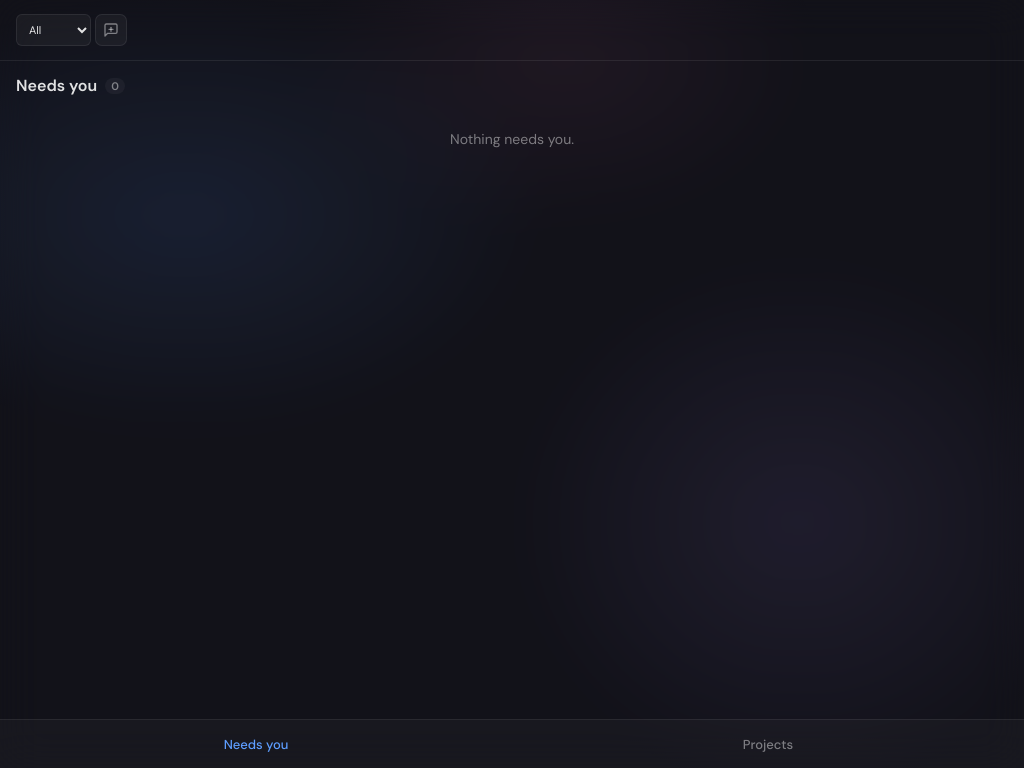
Scenario: Add server (#311) › is in the gear menu beside View Settings, and opens Add server closing the menu (phone: true)
Step 1. Click the button with class "home-tab" showing "Projects" → (768, 744), box [512,720,1023,767]
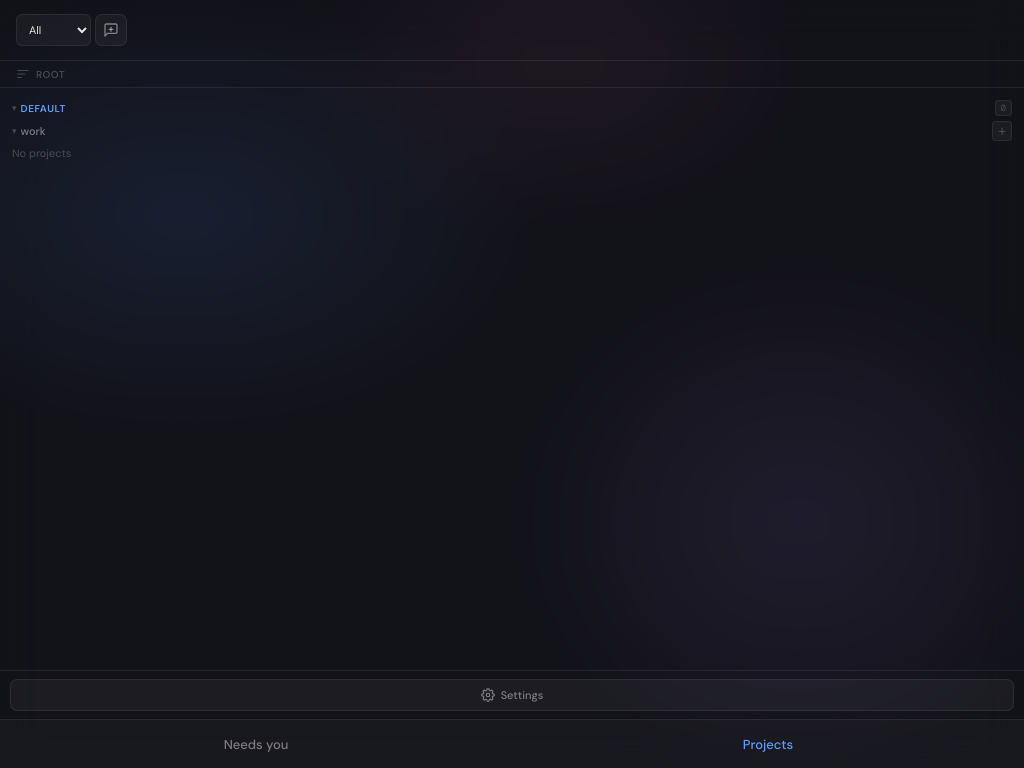
Step 2. Click the button with class "sidebar-settings-btn" → (512, 695), box [10,679,1014,711]
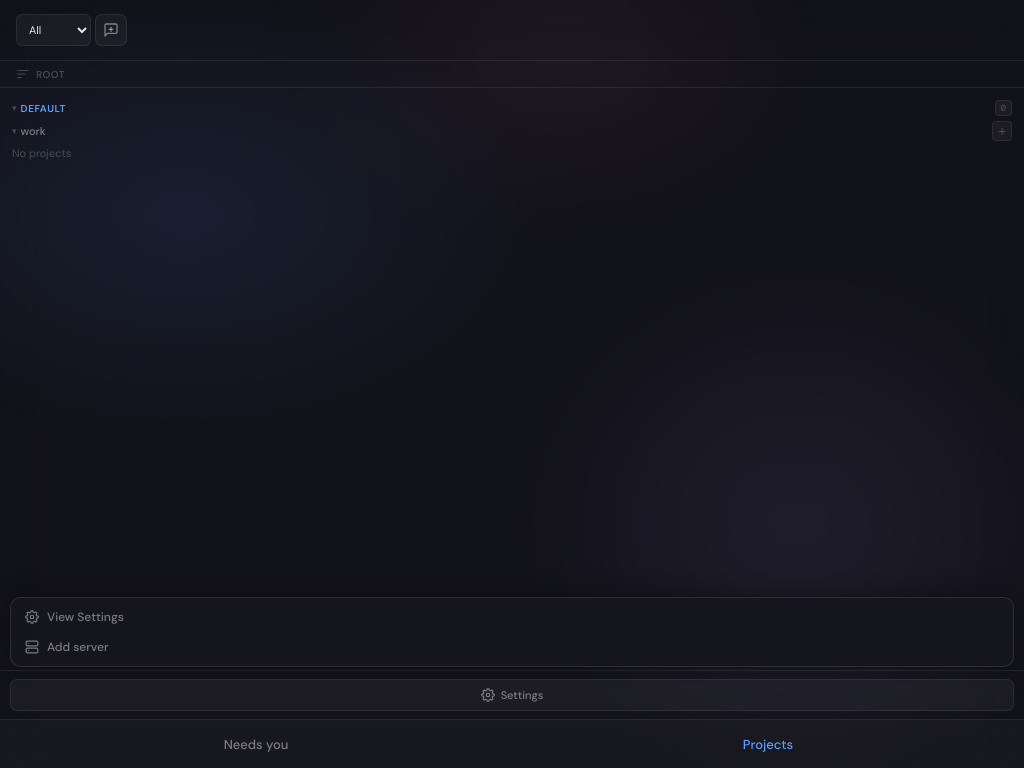
Step 3. Click the button with class "sidebar-footer-menu-item" showing "Add server" → (78, 647), box [15,632,1009,662]
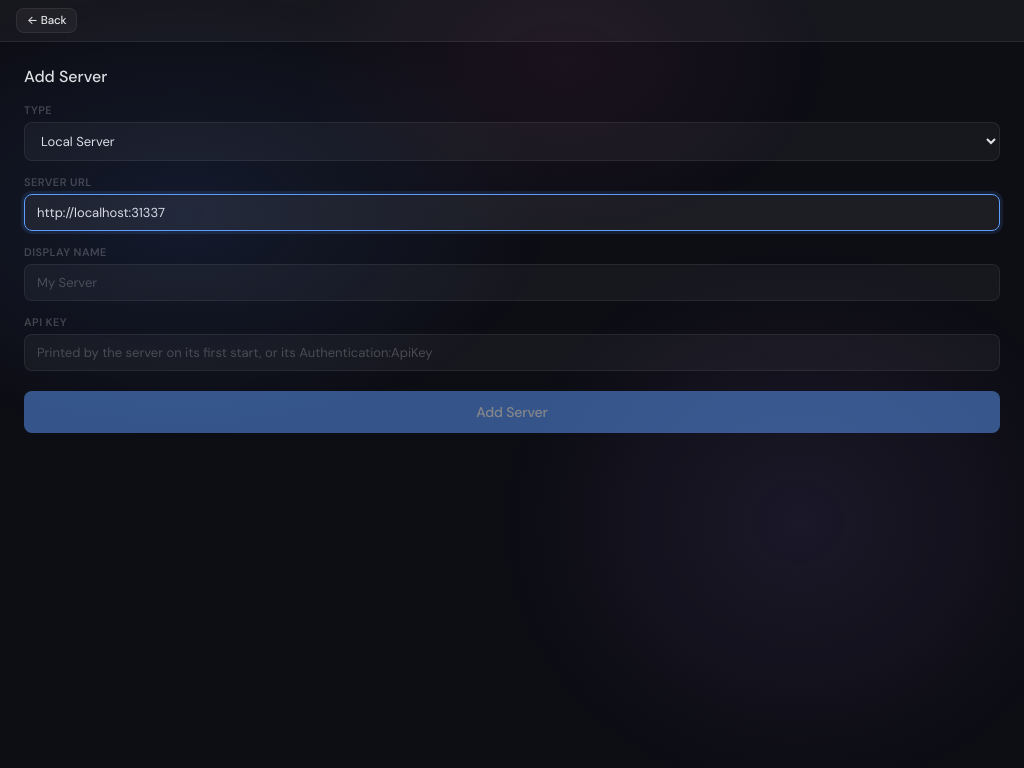
Expected: the heading "Add Server" is shown, [24,66,107,87]
Expected: the element with class "sidebar-footer-menu" is gone
